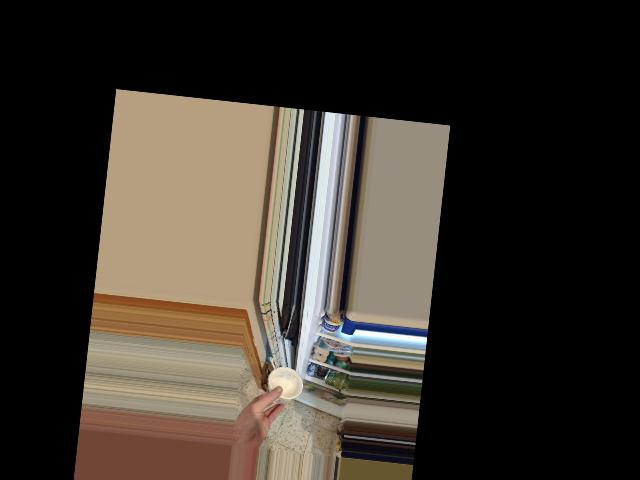cotage: (264, 360, 304, 408)
